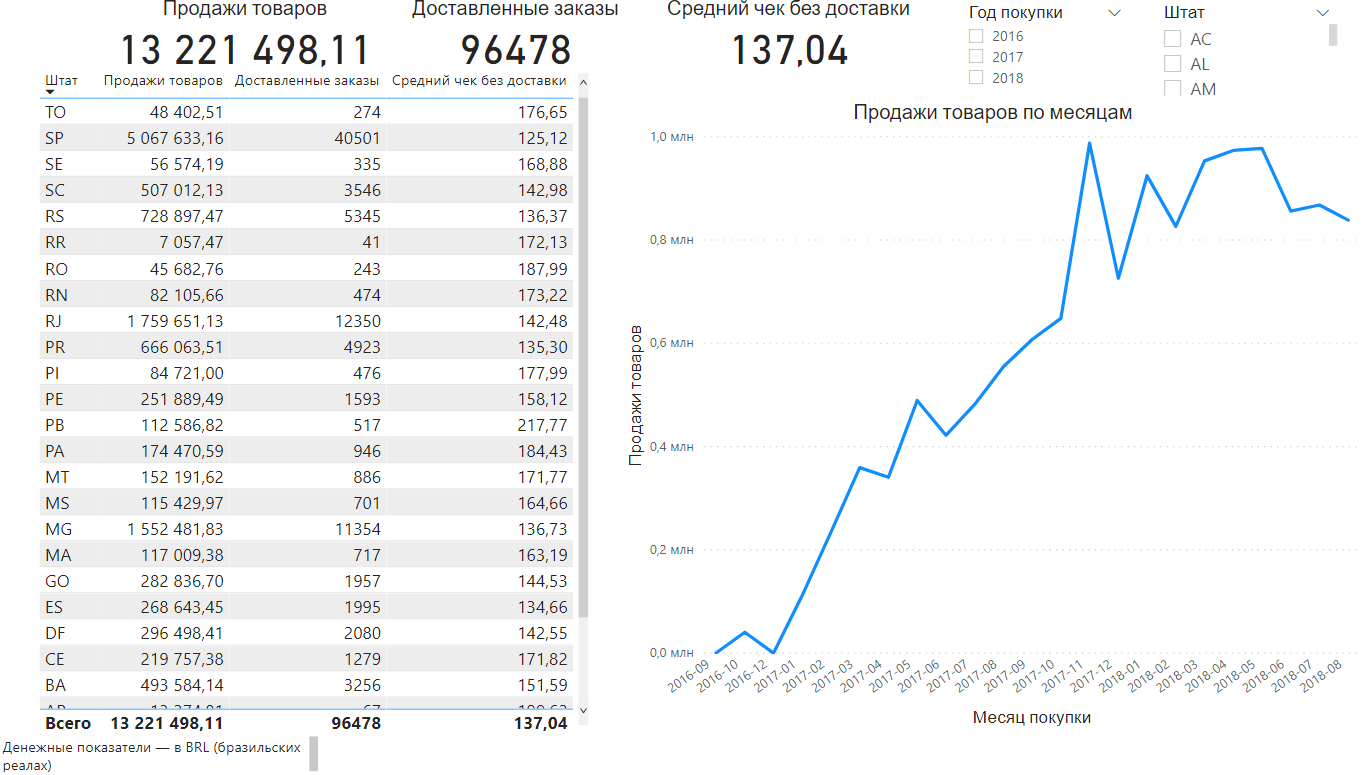

The dashboard page shown, as its layout file describes it:
{"tool":"powerbi","page":{"name":"Обзор продаж","canvas":[1280,720],"ordinal":0},"visuals":[{"type":"tableEx","fields":{"Values":["Orders.customer_state","OrderItems.Delivered Sales","Orders.Delivered Orders","Orders.Delivered AOV"]},"box":[33.2,60.8,517.2,624.1],"z":0},{"type":"card","title":"Продажи товаров","fields":{"Values":["OrderItems.Delivered Sales"]},"box":[94,0,269.2,70.1],"z":1000},{"type":"card","title":"Средний чек без доставки","fields":{"Values":["Orders.Delivered AOV"]},"box":[591.9,0,275.6,70.1],"z":2000},{"type":"card","title":"Доставленные заказы","fields":{"Values":["Orders.Delivered Orders"]},"box":[342,0,272,70.1],"z":3000},{"type":"slicer","fields":{"Values":["Orders.customer_state"]},"box":[1062.5,0,178.3,96.3],"z":4000},{"type":"lineChart","title":"Продажи товаров по месяцам","fields":{"Category":["Calendar.YearMonth"],"Y":["OrderItems.Delivered Sales"]},"box":[575.3,95.9,685.9,580.8],"z":5000},{"type":"slicer","fields":{"Values":["Calendar.Year"]},"box":[883.2,0,165.9,95.9],"z":6000},{"type":"textbox","box":[0,676.7,300.5,43.3],"z":6001}]}

Visuals, with their boxes in screenshot pixels (x1, y1, x2, y2), scaled from the page's 1280x720 canvas onto the 1363x775 screenshot:
tableEx - Orders.customer_state x OrderItems.Delivered Sales: (x1=35, y1=65, x2=586, y2=737)
"Продажи товаров" card: (x1=100, y1=0, x2=387, y2=75)
"Средний чек без доставки" card: (x1=630, y1=0, x2=924, y2=75)
"Доставленные заказы" card: (x1=364, y1=0, x2=654, y2=75)
slicer - Orders.customer_state: (x1=1131, y1=0, x2=1321, y2=104)
"Продажи товаров по месяцам" lineChart: (x1=613, y1=103, x2=1343, y2=728)
slicer - Calendar.Year: (x1=940, y1=0, x2=1117, y2=103)
textbox: (x1=0, y1=728, x2=320, y2=774)
